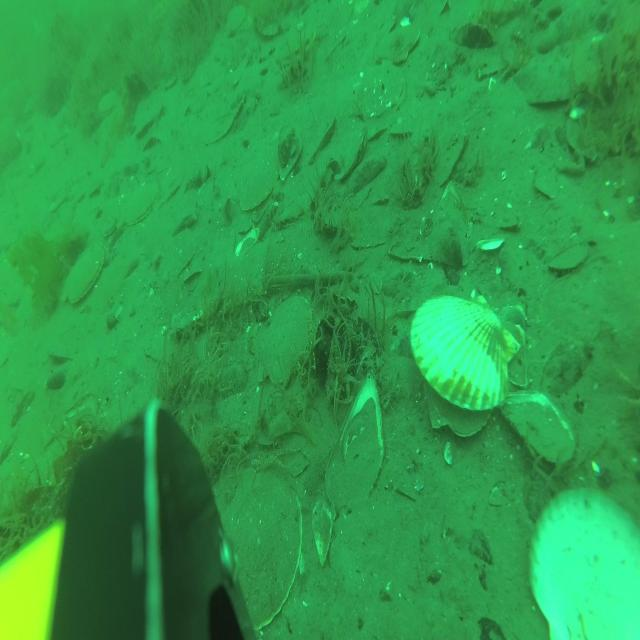scallop: (411, 282, 519, 438), (253, 286, 314, 385), (356, 59, 406, 118), (58, 248, 105, 310), (236, 155, 278, 211), (376, 22, 422, 70), (122, 177, 160, 228), (333, 132, 368, 182), (548, 238, 588, 279), (306, 115, 336, 162), (136, 100, 165, 140), (363, 113, 384, 142), (389, 117, 414, 141), (101, 216, 117, 239)
